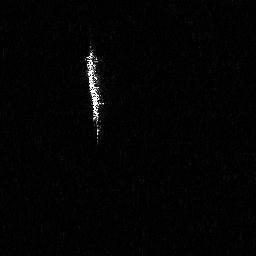ship: (83, 39, 105, 146)
